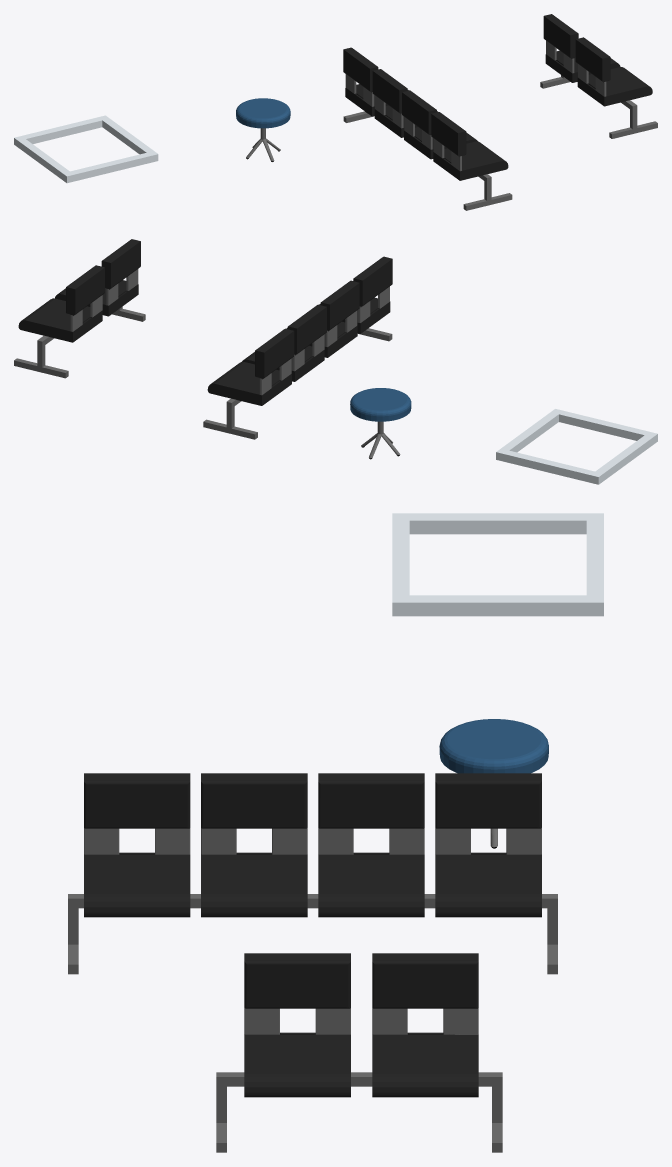
The model's file is Hospital_Accesorios.fbx.
3 renders of one model, top to bottom at view 1: azimuth 30°, elevation 25°; view 2: azimuth 150°, elevation 25°; view 3: azimuth 270°, elevation 25°, orthographic. The views are drawn at different scales.
Parts seen in each view (by area): view 1: Cube, Cube.003, Cube.001, Circle; view 2: Cube, Cube.003, Cube.001, Circle; view 3: Cube, Cube.003, Cube.001, Circle.
Boxes of the visible parts, x1,y1,x2,y2 form: Cube: (343, 47, 512, 210); Cube.003: (540, 14, 657, 138); Cube.001: (14, 115, 158, 183); Circle: (236, 98, 290, 161); Cube: (203, 256, 392, 439); Cube.003: (14, 239, 145, 378); Cube.001: (496, 409, 657, 484); Circle: (350, 388, 411, 459); Cube: (68, 773, 557, 974); Cube.003: (216, 953, 502, 1152); Cube.001: (392, 513, 603, 616); Circle: (439, 719, 548, 848).
Bounding box in the file's own units: 2380 × 314 × 1006.
